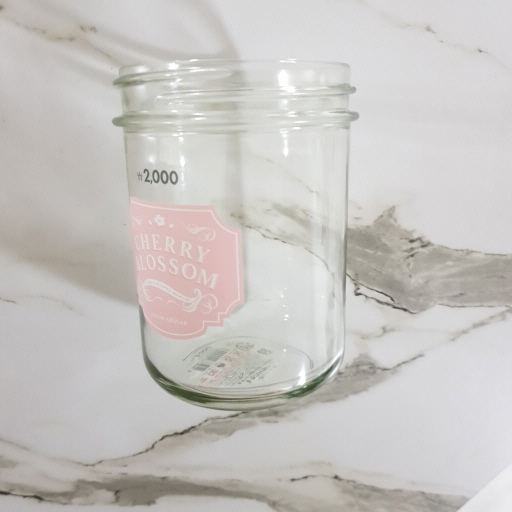Glass_5: (111, 56, 358, 410)
